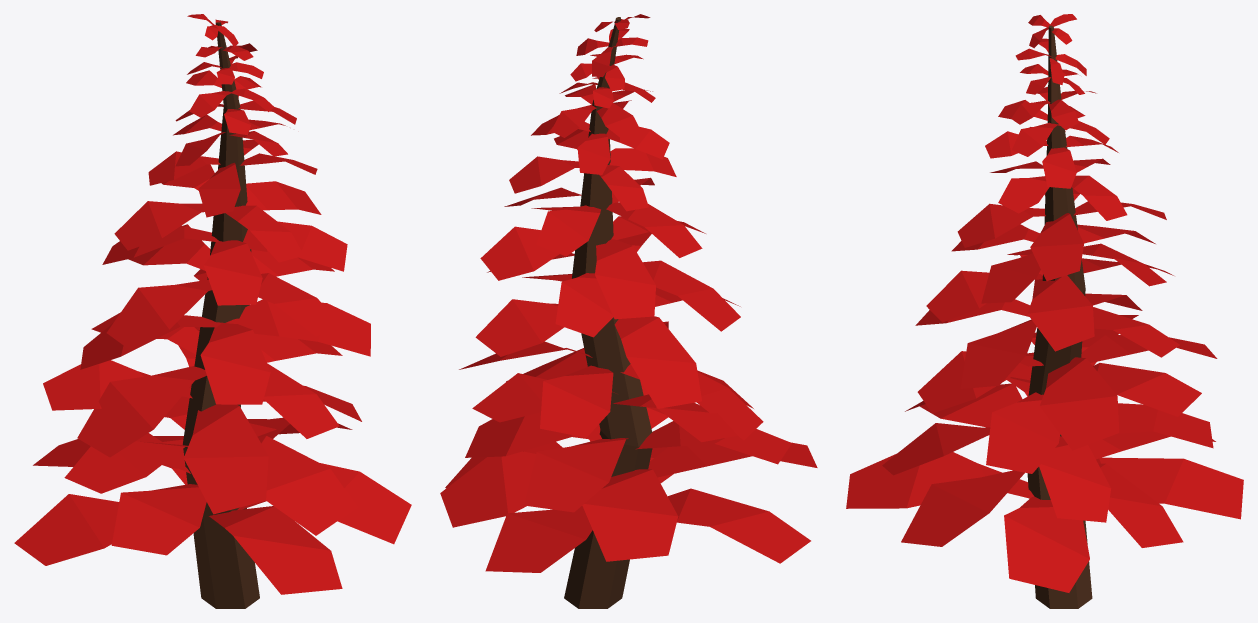
File: SM_Tree_Maple.fbx
3 views of the same model, side by side, from view 1: azimuth 30°, elevation 25°; view 2: azimuth 150°, elevation 25°; view 3: azimuth 270°, elevation 25° (orthographic). The views are drawn at different scales.
Visible parts, largest first — view 1: Cylinder.007, Plane.013, Plane.001, Plane.017, Plane.009, Plane.004, Plane, Plane.022, Plane.025, Plane.023, Plane.008, Plane.005 (+24 smaller); view 2: Cylinder.007, Plane.007, Plane.011, Plane.021, Plane.003, Plane, Plane.006, Plane.016, Plane.029, Plane.020, Plane.010, Plane.024 (+19 smaller); view 3: Plane.002, Cylinder.007, Plane.003, Plane.019, Plane.001, Plane.005, Plane.010, Plane.014, Plane.027, Plane.006, Plane.023, Plane.015 (+21 smaller).
Part boxes in pixels (x1,y1,x2,y2): Cylinder.007: [182, 22, 259, 608]; Plane.013: [183, 404, 268, 514]; Plane.001: [209, 506, 342, 594]; Plane.017: [77, 366, 206, 457]; Plane.009: [257, 435, 357, 535]; Plane.004: [111, 484, 206, 555]; Plane: [14, 494, 119, 565]; Plane.022: [200, 323, 270, 404]; Plane.025: [106, 279, 211, 350]; Plane.023: [226, 299, 370, 356]; Plane.008: [64, 441, 188, 493]; Plane.005: [320, 463, 411, 544]; Cylinder.007: [564, 17, 652, 608]; Plane.007: [582, 469, 678, 561]; Plane.011: [524, 438, 628, 512]; Plane.021: [614, 316, 701, 408]; Plane.003: [485, 506, 592, 572]; Plane: [667, 488, 810, 563]; Plane.006: [440, 451, 536, 527]; Plane.016: [540, 365, 613, 437]; Plane.029: [595, 239, 655, 319]; Plane.020: [475, 299, 564, 356]; Plane.010: [465, 412, 601, 457]; Plane.024: [555, 273, 613, 337]; Plane.002: [1004, 496, 1089, 592]; Cylinder.007: [1027, 25, 1092, 608]; Plane.003: [1096, 457, 1243, 519]; Plane.019: [1040, 357, 1119, 450]; Plane.001: [846, 452, 1034, 508]; Plane.005: [901, 470, 1024, 546]; Plane.010: [1039, 436, 1110, 522]; Plane.014: [986, 392, 1060, 473]; Plane.027: [1027, 275, 1094, 351]; Plane.006: [1098, 463, 1183, 547]; Plane.023: [960, 319, 1036, 388]; Plane.015: [1093, 363, 1201, 416].
Size of the model in its own units: 313 by 306 by 493.
